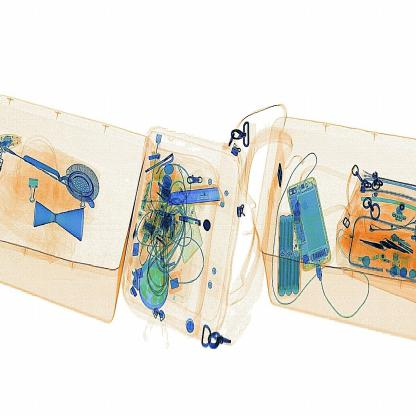pliers: (163, 177, 234, 213)
